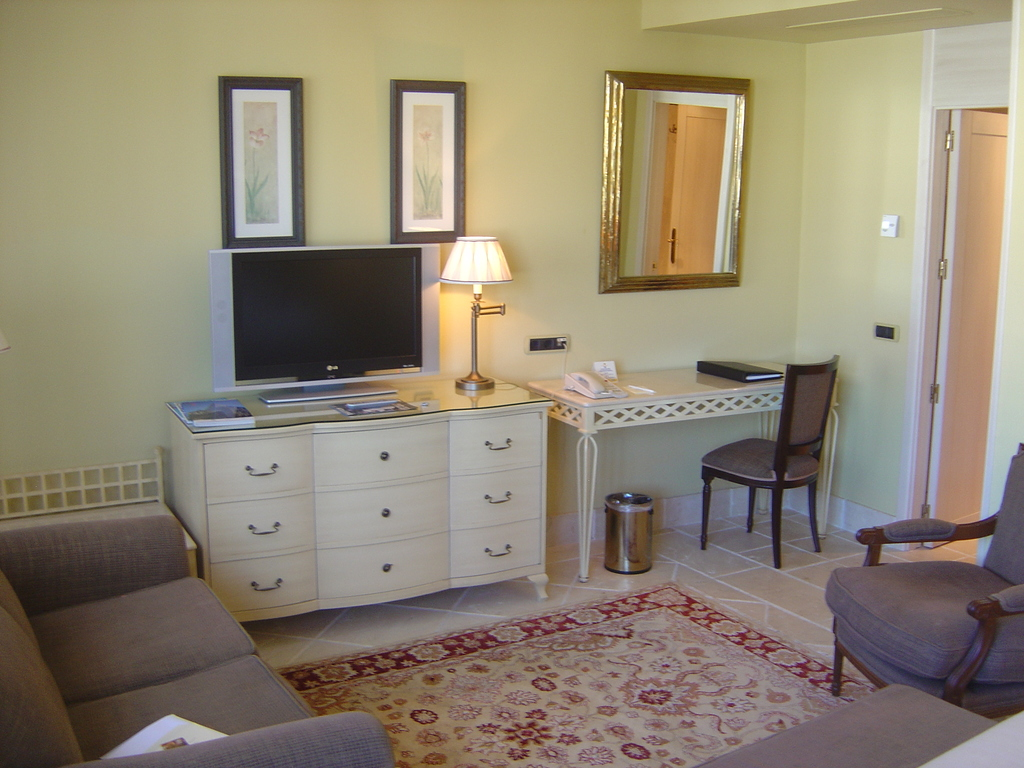cabinet door: (326, 431, 457, 481), (210, 447, 310, 493), (220, 558, 312, 607), (323, 551, 443, 588), (458, 422, 543, 471), (330, 496, 446, 531), (468, 525, 545, 570), (223, 506, 318, 542), (459, 481, 535, 515)
door: (953, 123, 982, 521)
handle: (244, 458, 281, 481), (244, 519, 285, 538), (243, 575, 286, 593), (483, 482, 510, 509), (484, 544, 518, 563), (482, 438, 516, 457), (377, 499, 395, 525), (377, 557, 398, 578), (377, 447, 396, 467)
